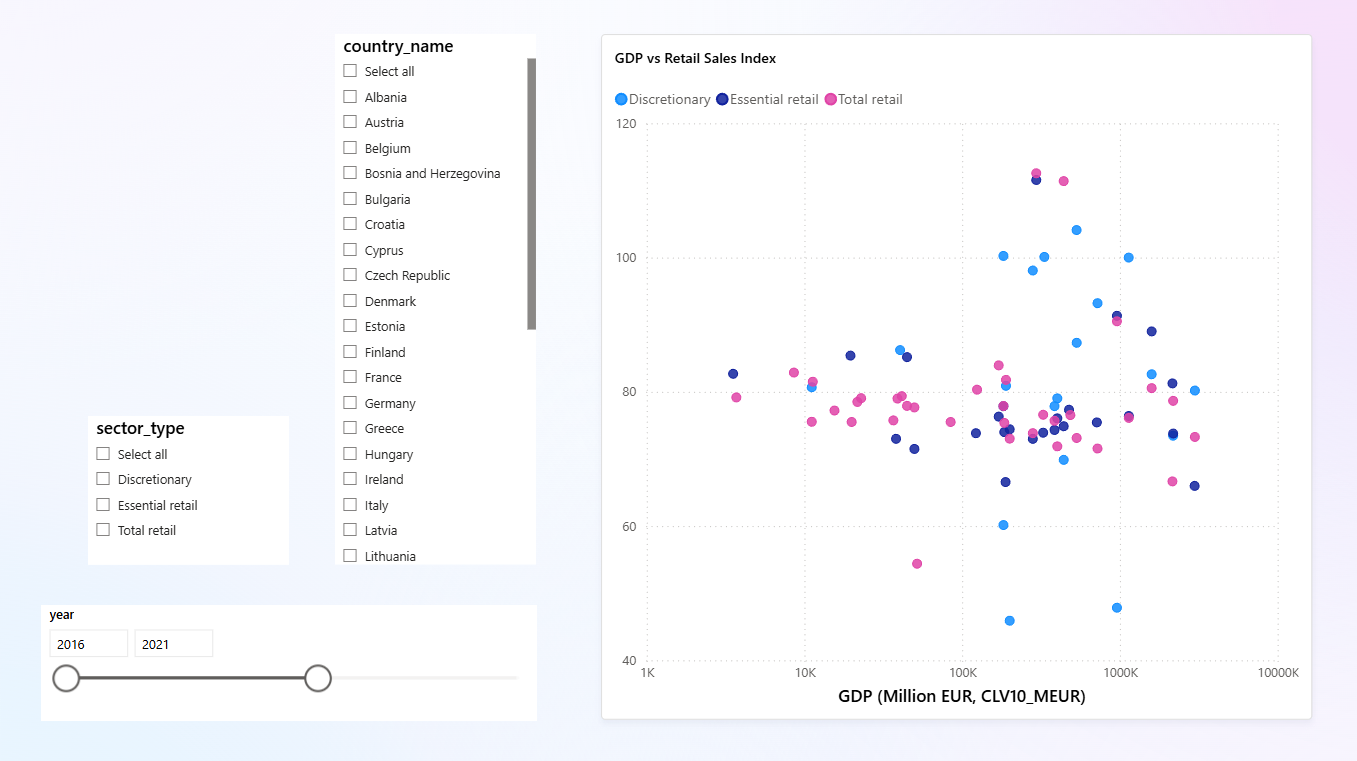

The page's visual inventory and layout, read from the dashboard file:
{"tool":"powerbi","page":{"name":"GDP vs Sales","canvas":[1280,720],"ordinal":2},"visuals":[{"type":"scatterChart","title":"GDP vs Retail Sales Index","fields":{"X":["Avg(final_dataset.gdp)"],"Y":["Avg(final_dataset.sales_value)"],"Series":["final_dataset.sector_type"],"Category":["Country_Lookup.country_name"]},"box":[565.2,32.3,669.3,645.4],"z":0},{"type":"slicer","fields":{"Values":["Country_Lookup.country_name"]},"box":[314.9,32.3,189.2,499.3],"z":1000},{"type":"slicer","fields":{"Values":["final_dataset.year"]},"box":[38.3,568.8,465.8,109],"z":2000},{"type":"slicer","fields":{"Values":["final_dataset.sector_type"]},"box":[82.6,391.5,189.2,140.1],"z":3000}]}

Visuals, with their boxes in screenshot pixels (x1, y1, x2, y2), scaled from the page's 1280x720 canvas onto the 1357x761 screenshot:
"GDP vs Retail Sales Index" scatterChart: BBox(599, 34, 1309, 716)
slicer - Country_Lookup.country_name: BBox(334, 34, 534, 562)
slicer - final_dataset.year: BBox(41, 601, 534, 716)
slicer - final_dataset.sector_type: BBox(88, 414, 288, 562)
